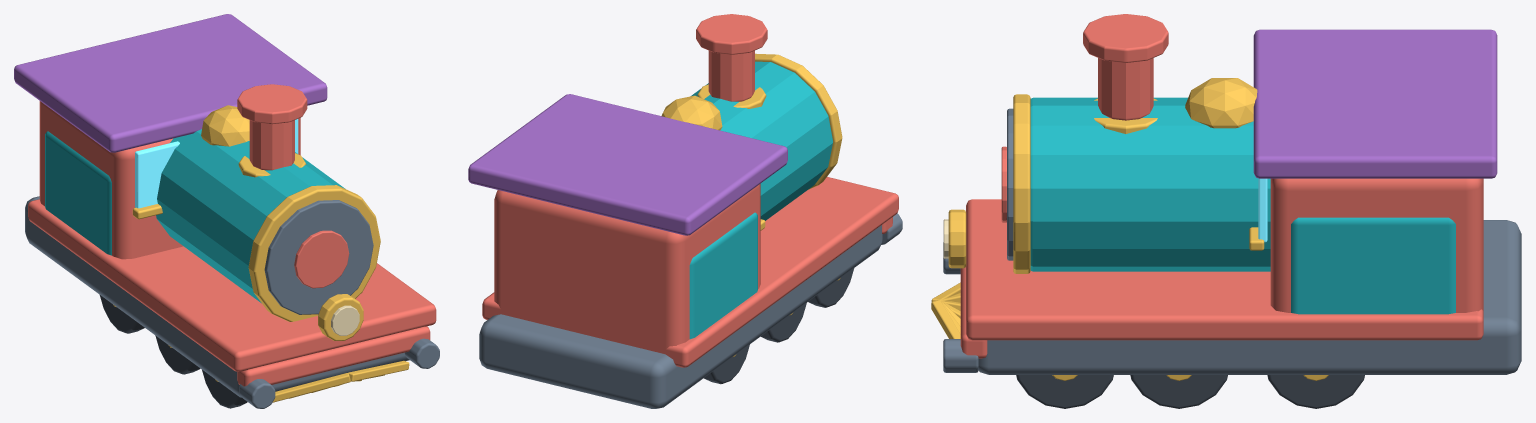
Rendered from Locomotive.fbx.
The picture shows the model from 3 angles, left to right: view 1: azimuth 30°, elevation 25°; view 2: azimuth 150°, elevation 25°; view 3: azimuth 270°, elevation 25°; orthographic projection. The views are drawn at different scales.
Visible parts, largest first — view 1: Cab roof, Coral footplate, Round teal boiler, Smokebox face, Cab body, Main chassis, Cab teal panels, Boiler front ring, Front buffer beam, Front badge, Chimney cap, Tall red chimney (+12 smaller); view 2: Cab roof, Cab body, Main chassis, Coral footplate, Round teal boiler, Cab teal panels, Chimney cap, Tall red chimney, Boiler front ring, Steam dome, Large brass-rimmed wheel.002, Large brass-rimmed wheel (+2 smaller); view 3: Cab roof, Round teal boiler, Coral footplate, Main chassis, Cab teal panels, Cab body, Chimney cap, Boiler front ring, Tall red chimney, Steam dome, Large brass-rimmed wheel.003, Large brass-rimmed wheel.004 (+8 smaller).
Part boxes in pixels (left/top/right/bottom): Cab roof: left=14, top=14, right=327, bottom=152; Coral footplate: left=28, top=199, right=436, bottom=371; Round teal boiler: left=156, top=129, right=345, bottom=303; Smokebox face: left=264, top=200, right=373, bottom=314; Cab body: left=39, top=101, right=300, bottom=259; Main chassis: left=25, top=196, right=409, bottom=397; Cab teal panels: left=45, top=131, right=111, bottom=255; Boiler front ring: left=248, top=185, right=380, bottom=321; Front buffer beam: left=237, top=326, right=430, bottom=386; Front badge: left=294, top=230, right=349, bottom=288; Chimney cap: left=237, top=84, right=307, bottom=124; Tall red chimney: left=249, top=120, right=294, bottom=170; Cab roof: left=468, top=94, right=787, bottom=235; Cab body: left=494, top=184, right=760, bottom=353; Main chassis: left=479, top=225, right=882, bottom=408; Coral footplate: left=482, top=177, right=898, bottom=367; Round teal boiler: left=691, top=61, right=832, bottom=220; Cab teal panels: left=689, top=212, right=757, bottom=339; Chimney cap: left=696, top=14, right=767, bottom=54; Tall red chimney: left=708, top=50, right=754, bottom=101; Boiler front ring: left=755, top=53, right=842, bottom=189; Steam dome: left=661, top=95, right=722, bottom=130; Large brass-rimmed wheel.002: left=704, top=344, right=749, bottom=384; Large brass-rimmed wheel: left=808, top=268, right=854, bottom=307; Cab roof: left=1253, top=29, right=1497, bottom=178; Round teal boiler: left=1030, top=97, right=1270, bottom=271; Coral footplate: left=966, top=199, right=1483, bottom=340; Main chassis: left=978, top=220, right=1521, bottom=374; Cab teal panels: left=1291, top=217, right=1455, bottom=314; Cab body: left=1270, top=178, right=1483, bottom=312; Chimney cap: left=1083, top=14, right=1168, bottom=62; Boiler front ring: left=1013, top=94, right=1030, bottom=273; Tall red chimney: left=1098, top=58, right=1153, bottom=120; Steam dome: left=1185, top=78, right=1257, bottom=128; Large brass-rimmed wheel.003: left=1016, top=375, right=1113, bottom=408; Large brass-rimmed wheel.004: left=1130, top=375, right=1227, bottom=408.
Bounding box in the file's own units: 610 × 724 × 1164.
